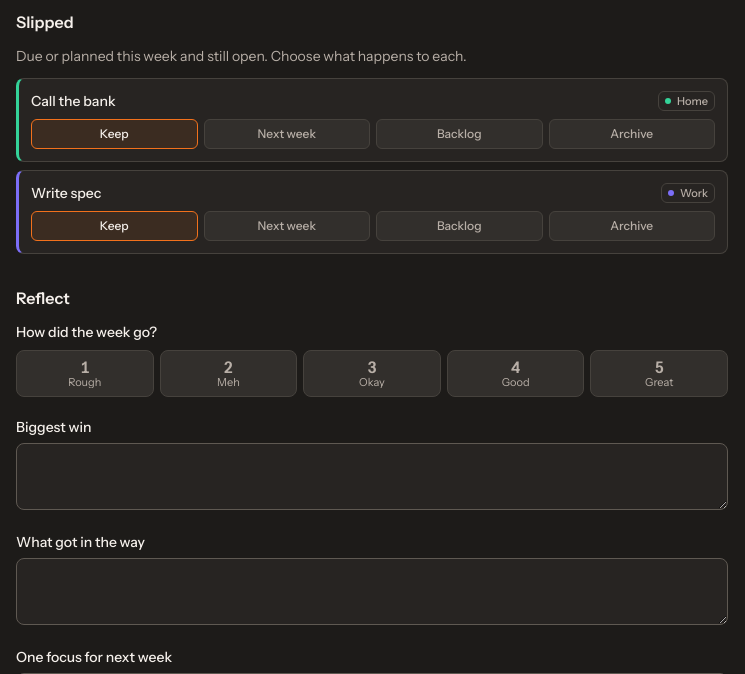
Test: ReviewPage › the rating group supports arrow keys
(page scrolled)
Expected: the text "Call the bank" is shown, x1=31 y1=92 x2=116 y2=110
Click the radio button with aria-label "2 of 5, Meh": (228, 374) x1=160 y1=350 x2=297 y2=397
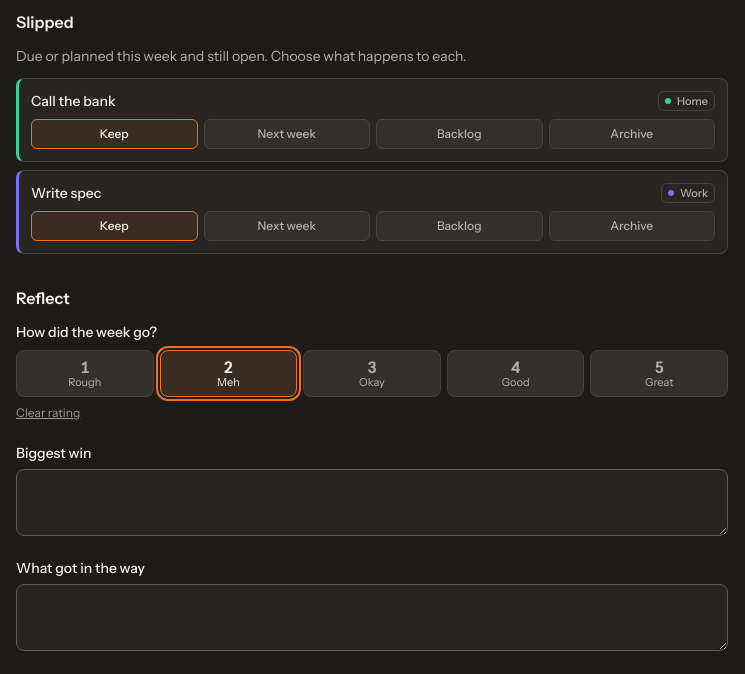
Press Arrowright
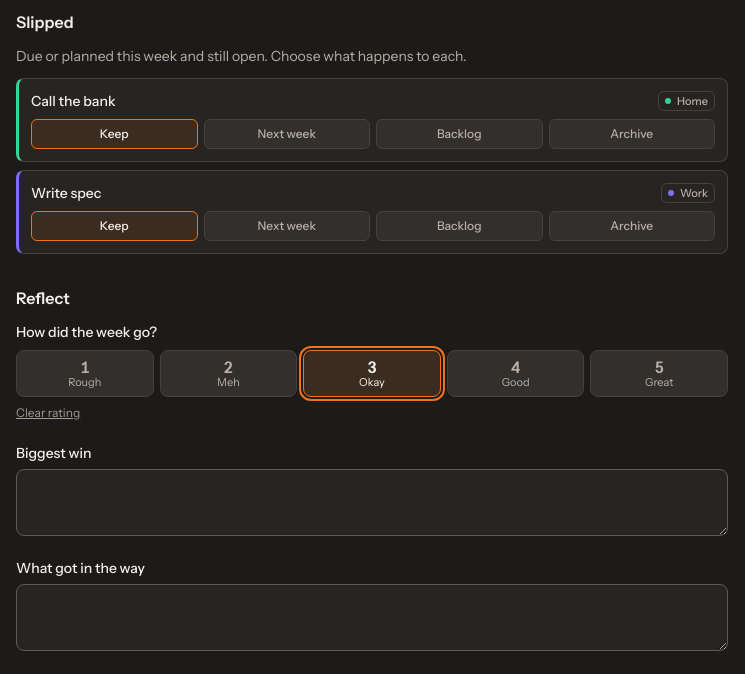
Now the radio button with aria-label "3 of 5, Okay" is checked, box x1=303 y1=350 x2=441 y2=397
